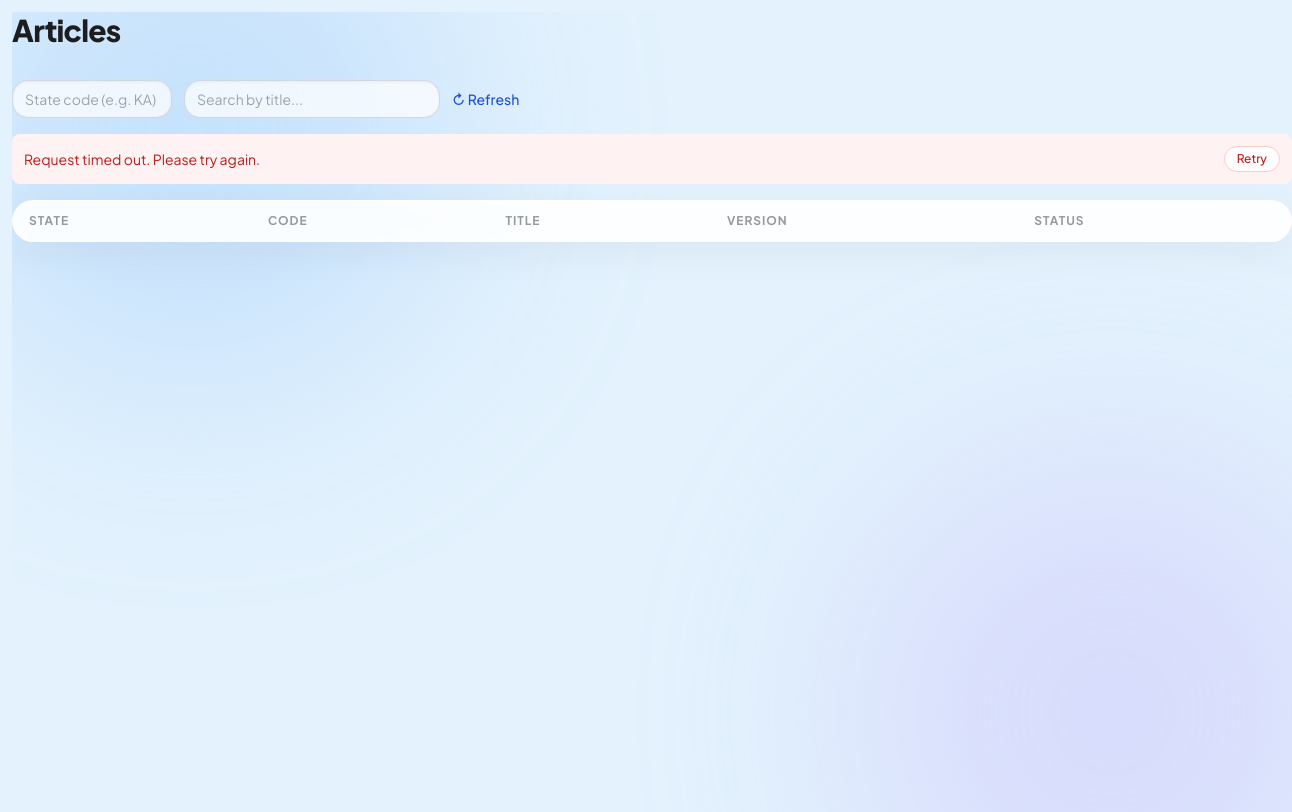
Test: ArticlesPage › stops loading on failure, shows the error and recovers with Retry
expect the text "Request timed out. Please try again." is shown: met, box [24, 149, 260, 169]
Click the button "Retry" at (1252, 159), box [1224, 146, 1280, 172]
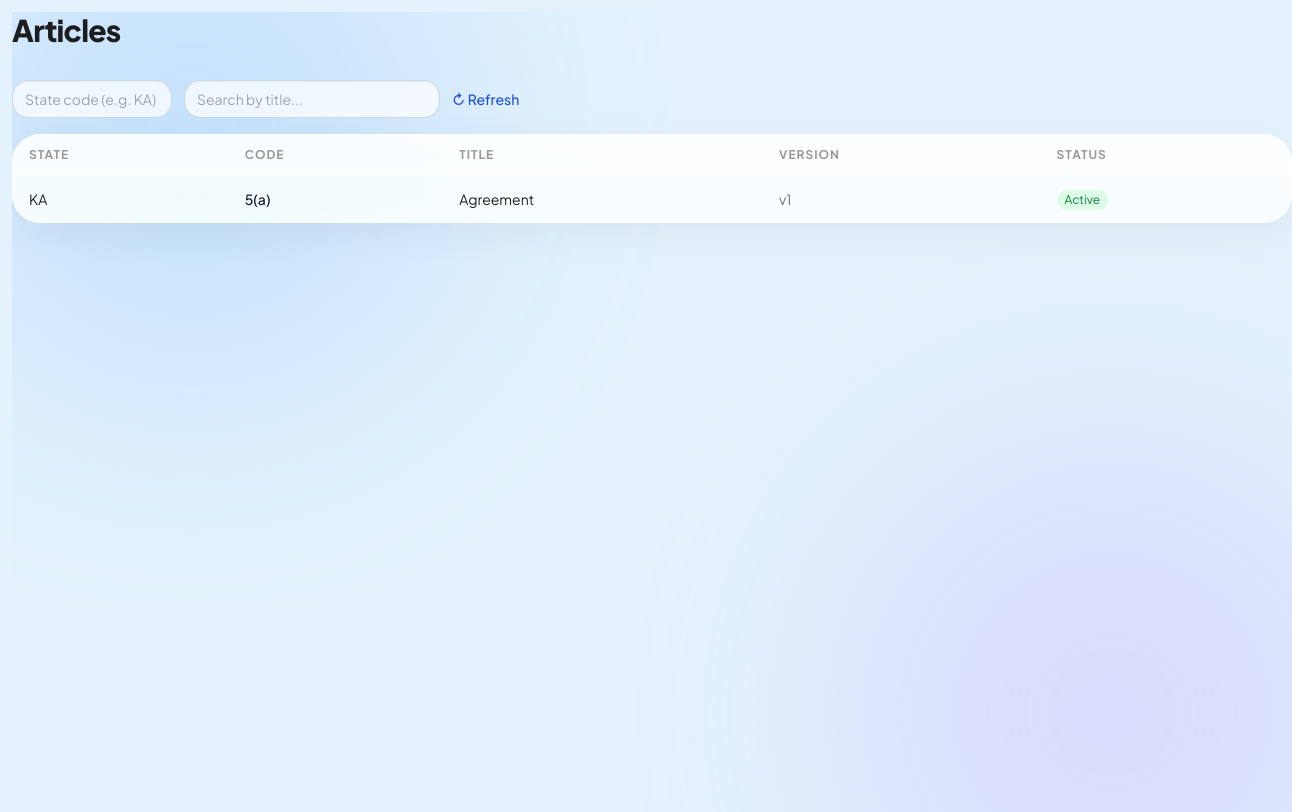
expect the text "Agreement" is shown: met, box [443, 176, 763, 222]
